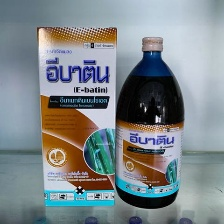carton: (31, 21, 118, 209)
insecticide: (112, 34, 187, 211)
